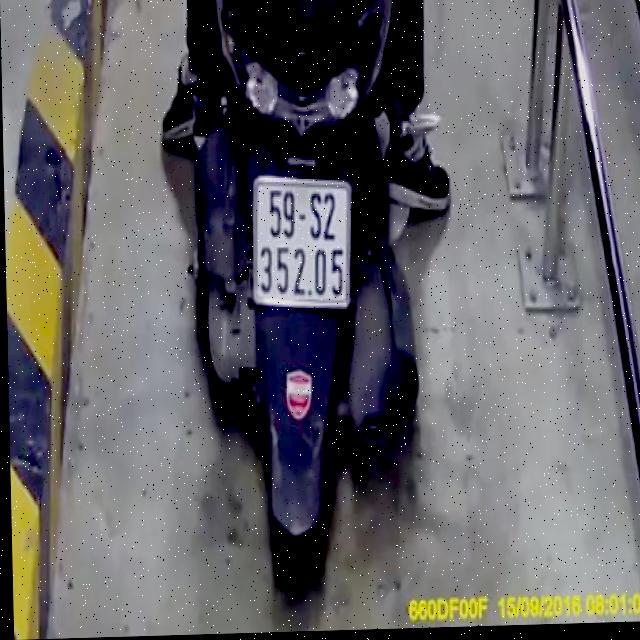motorcycle: (183, 0, 435, 593)
plate: (249, 170, 354, 313)
